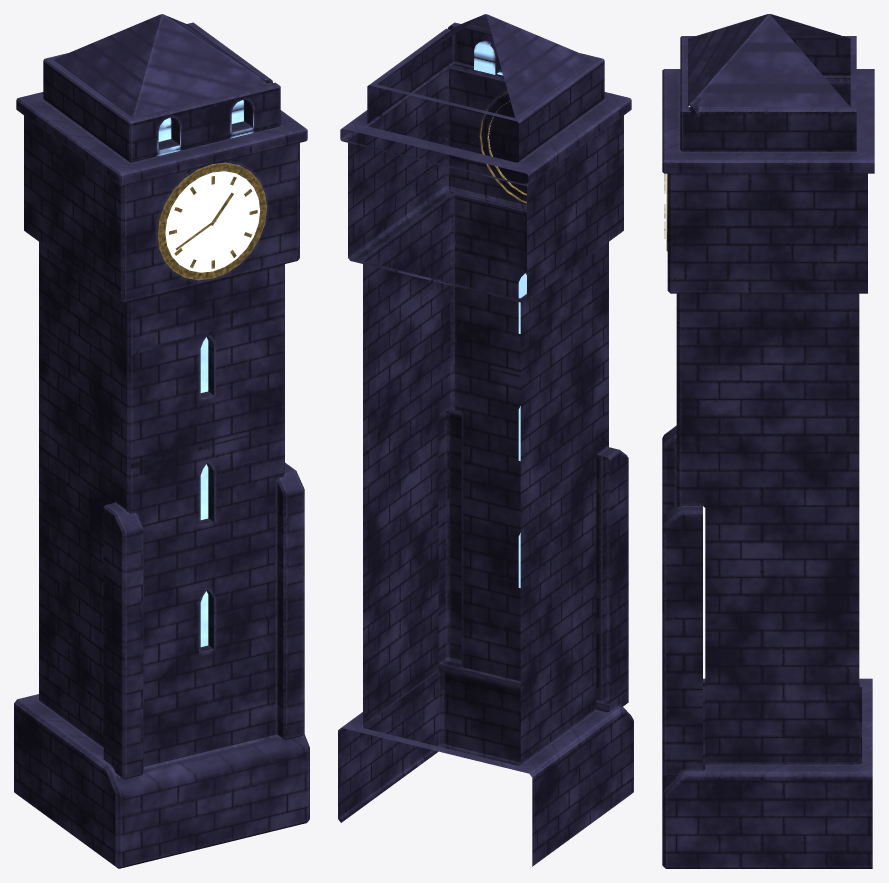
File: Promenade_ClockTower.fbx
The picture shows the model from 3 angles, left to right: view 1: azimuth 30°, elevation 25°; view 2: azimuth 150°, elevation 25°; view 3: azimuth 270°, elevation 25°; orthographic projection.
Parts seen in each view (by area): view 1: Promenade_ClockTower; view 2: Promenade_ClockTower; view 3: Promenade_ClockTower.
Part boxes in pixels (left/top/right/bottom): Promenade_ClockTower: left=14, top=14, right=309, bottom=868; Promenade_ClockTower: left=338, top=14, right=633, bottom=866; Promenade_ClockTower: left=662, top=14, right=874, bottom=868.
Bounding box in the file's own units: 6.4 × 25 × 5.95.
